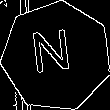N_S: (33, 29, 79, 84)
